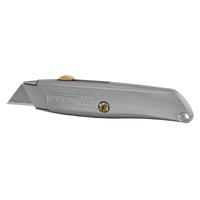knife: (6, 71, 200, 126)
